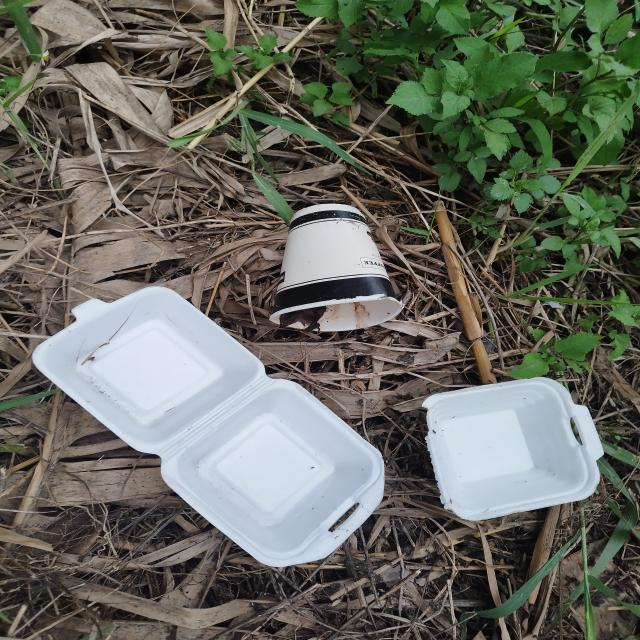foam box: (33, 286, 386, 568), (421, 377, 603, 520)
plastic glass: (270, 204, 404, 332)
